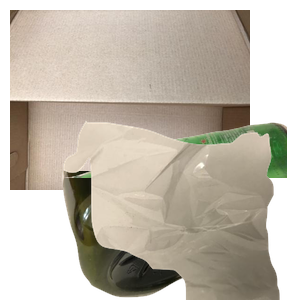cardboard: (10, 10, 250, 190)
glass: (60, 120, 300, 300)
plastic: (60, 171, 300, 300)
trash: (61, 120, 300, 300)
